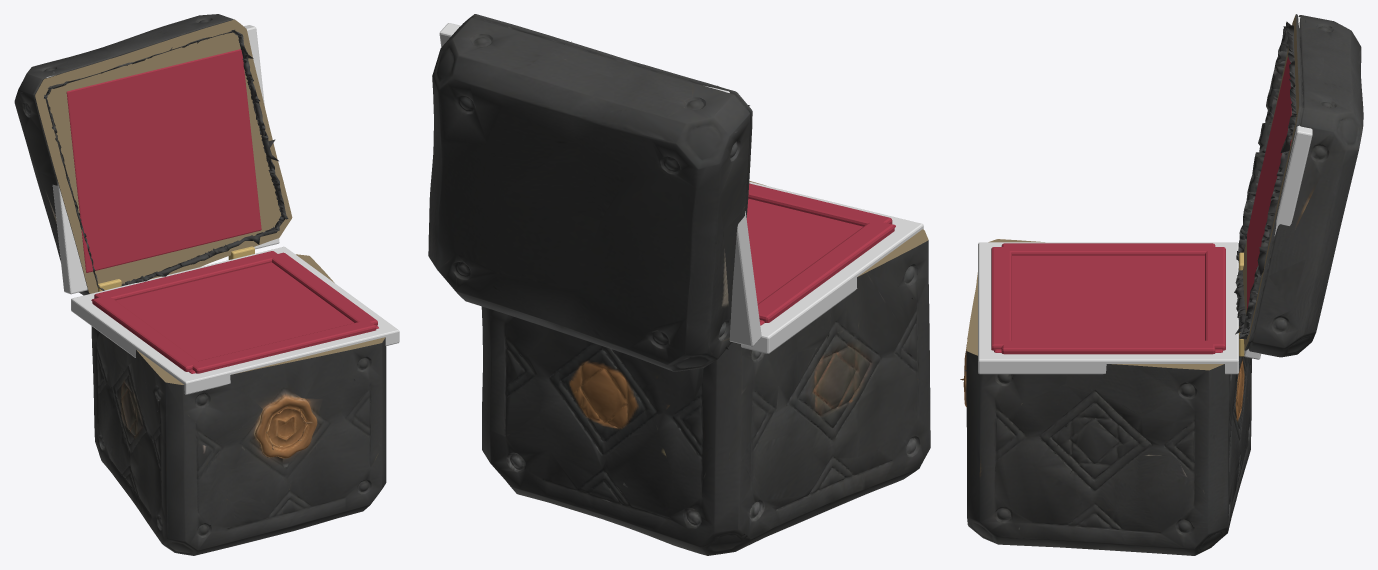
Rendered from Box_H2_Open.fbx.
The picture shows the model from 3 angles, left to right: view 1: azimuth 30°, elevation 25°; view 2: azimuth 150°, elevation 25°; view 3: azimuth 270°, elevation 25°; orthographic projection. The views are drawn at different scales.
Visible parts, largest first — view 1: LidPivot, BoxBody, VelvetInterior, VelvetRim, VelvetBolsterY_-1.0, VelvetBolsterY_1.0, VelvetBolsterX_-1.0, VelvetBolsterX_1.0; view 2: LidPivot, BoxBody, VelvetInterior, VelvetRim, VelvetBolsterX_-1.0, VelvetBolsterY_-1.0; view 3: BoxBody, LidPivot, VelvetInterior, VelvetRim, VelvetBolsterX_1.0, VelvetBolsterX_-1.0, VelvetBolsterY_-1.0, VelvetBolsterY_1.0.
Boxes of the visible parts, <box> form: LidPivot: <box>14,14,292,295</box>; BoxBody: <box>91,254,386,555</box>; VelvetInterior: <box>91,262,378,373</box>; VelvetRim: <box>71,246,399,394</box>; VelvetBolsterY_-1.0: <box>191,322,376,373</box>; VelvetBolsterY_1.0: <box>94,251,279,300</box>; VelvetBolsterX_-1.0: <box>92,296,199,371</box>; VelvetBolsterX_1.0: <box>272,252,377,325</box>; LidPivot: <box>428,14,761,371</box>; BoxBody: <box>481,181,930,555</box>; VelvetInterior: <box>746,198,895,325</box>; VelvetRim: <box>741,181,923,353</box>; VelvetBolsterX_-1.0: <box>757,220,894,322</box>; VelvetBolsterY_-1.0: <box>748,183,892,226</box>; BoxBody: <box>960,239,1251,555</box>; LidPivot: <box>1234,14,1363,359</box>; VelvetInterior: <box>994,255,1222,352</box>; VelvetRim: <box>978,242,1238,374</box>; VelvetBolsterX_1.0: <box>1001,340,1215,354</box>; VelvetBolsterX_-1.0: <box>1001,243,1215,255</box>; VelvetBolsterY_-1.0: <box>991,247,1011,350</box>; VelvetBolsterY_1.0: <box>1205,247,1225,350</box>.
Size of the model in its own units: 0.3827 by 0.5999 by 0.4936.
